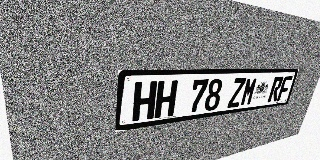7: (187, 79, 209, 114)
8: (203, 78, 224, 111)
F: (276, 76, 293, 101)
H: (132, 81, 157, 122), (154, 80, 178, 119)
M: (240, 77, 258, 106)
R: (267, 76, 284, 102)
Z: (227, 78, 246, 108)
